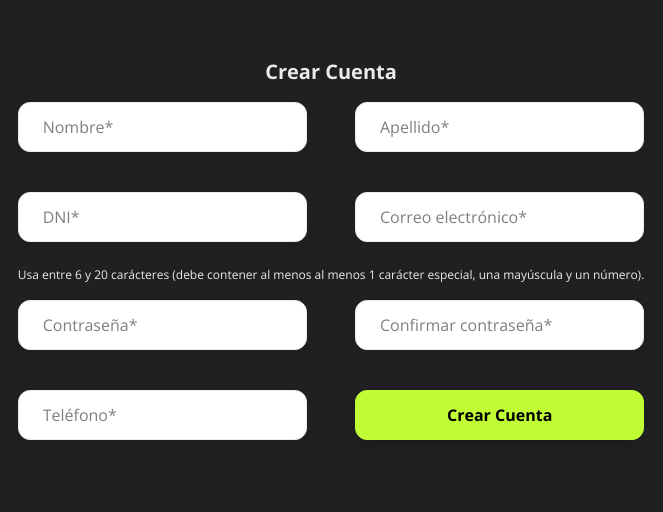
Test case: SignupPage › muestra errores si los campos obligatorios están vacíos
Click the button with test id "submit-button" at [500, 415], box [355,390,644,440]
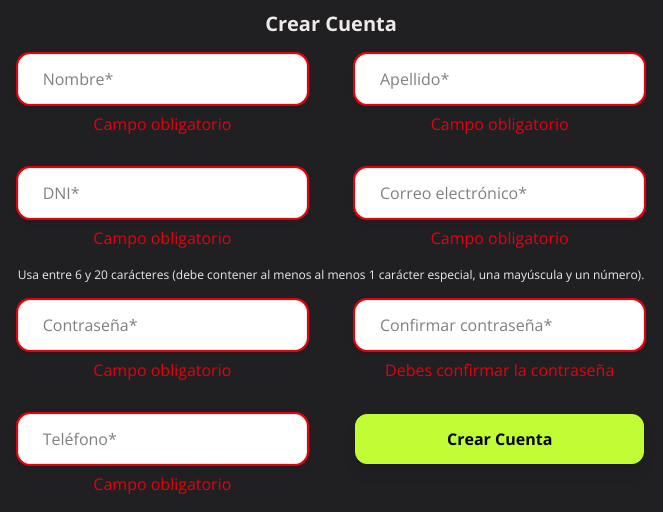
Now the 1st text "Campo obligatorio" is shown, box [93,113,231,135]
